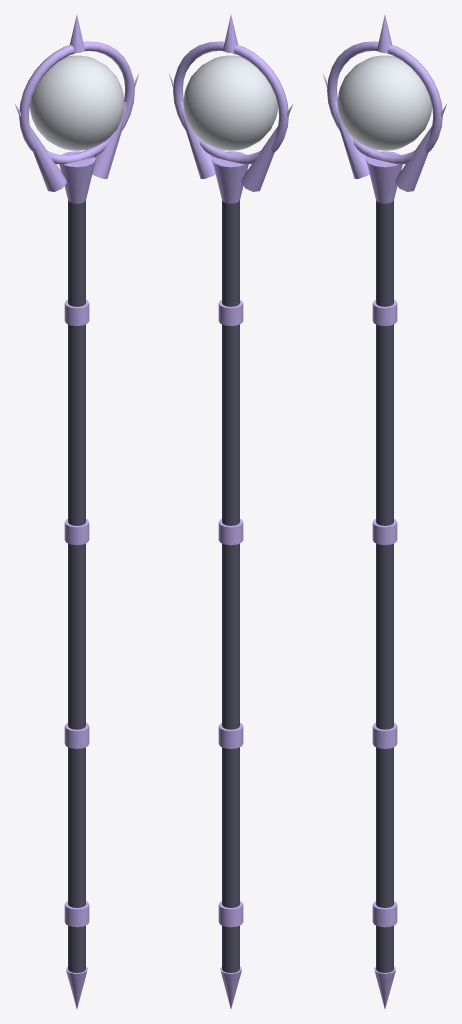
Rendered from raven_right.glb.
3 views of the same model, side by side, from view 1: azimuth 30°, elevation 25°; view 2: azimuth 150°, elevation 25°; view 3: azimuth 330°, elevation 25° (orthographic).
Visible parts, largest first — view 1: raven_right; view 2: raven_right; view 3: raven_right.
Part boxes in pixels (left/top/right/bottom): raven_right: left=15, top=15, right=139, bottom=1008; raven_right: left=168, top=15, right=292, bottom=1008; raven_right: left=322, top=15, right=446, bottom=1008.
Size of the model in its own units: 0.257 by 1.96 by 0.17.
